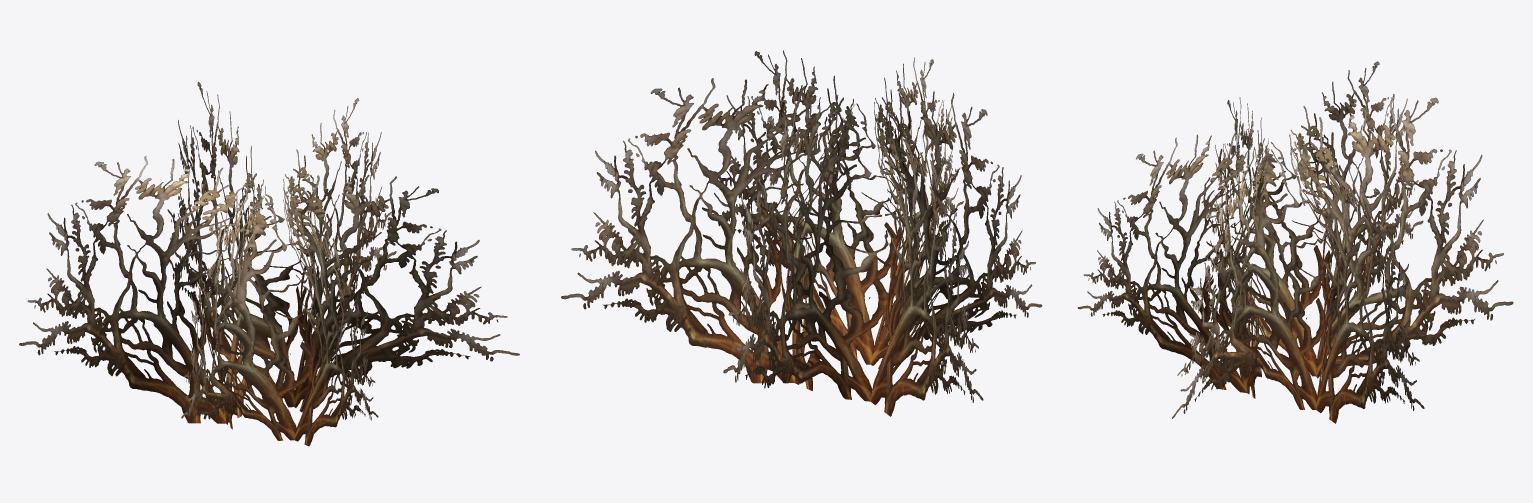
Rendered from durotarbush02.obj.
3 renders of one model, left to right at view 1: azimuth 30°, elevation 25°; view 2: azimuth 150°, elevation 25°; view 3: azimuth 270°, elevation 25°, orthographic. The views are drawn at different scales.
Visible parts, largest first — view 1: DurotarBush02; view 2: DurotarBush02; view 3: DurotarBush02.
Boxes of the visible parts, <box> form: DurotarBush02: <box>19,81,519,446</box>; DurotarBush02: <box>561,50,1042,416</box>; DurotarBush02: <box>1077,61,1513,423</box>.
Bounding box in the file's own units: 4.66 × 3.79 × 4.6.
1 material, 1 textured.
